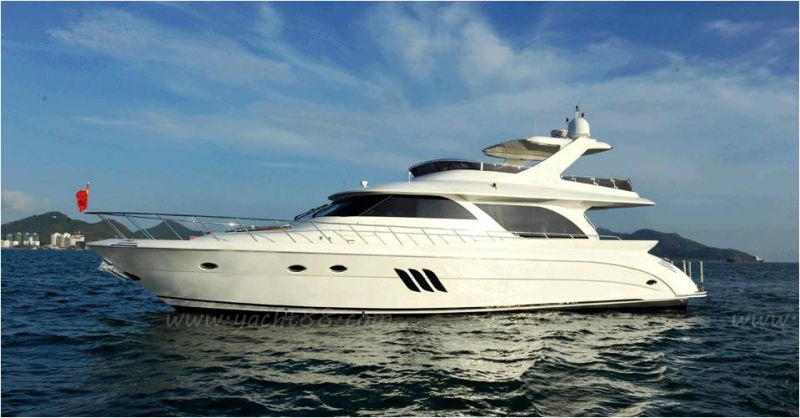yacht: (68, 104, 710, 312)
